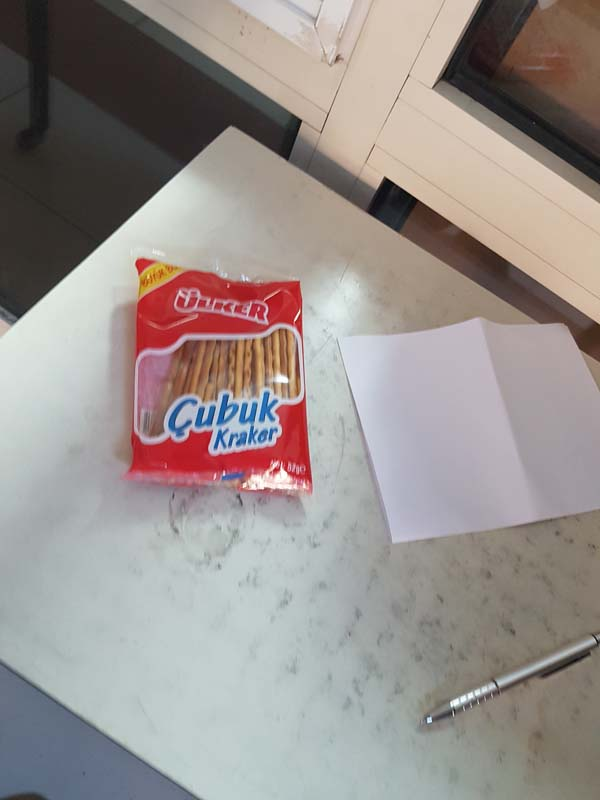eticubuk: (130, 252, 323, 501)
